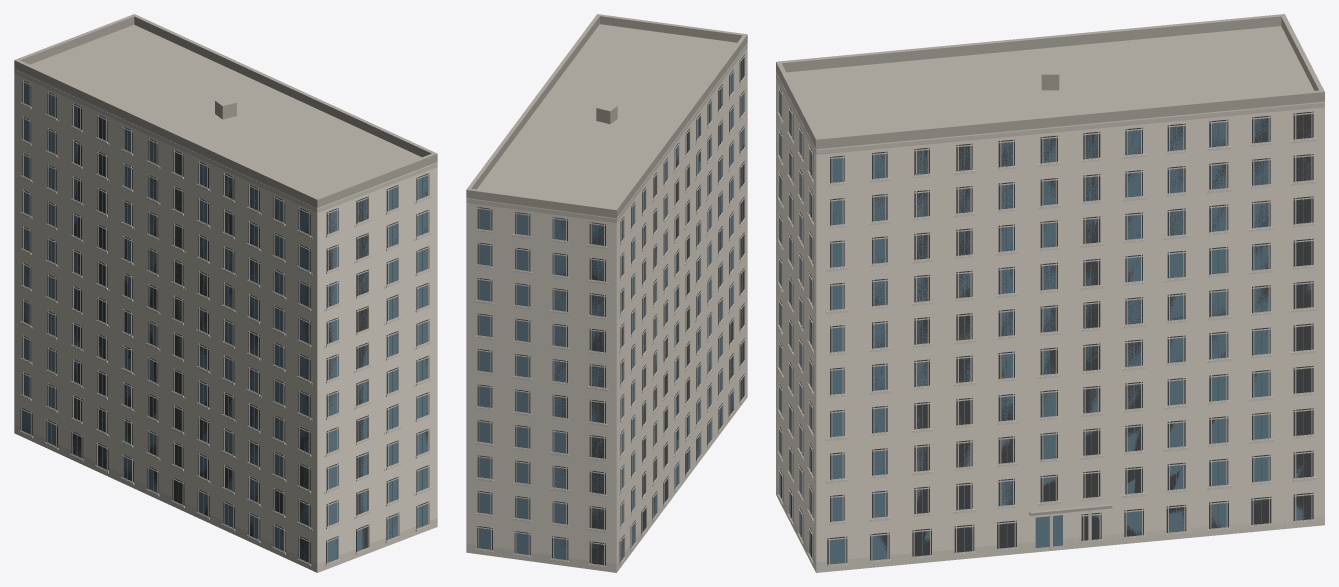
The model's file is cop_residencial_orla_04__way_586975773.fbx.
3 renders of one model, left to right at view 1: azimuth 30°, elevation 25°; view 2: azimuth 150°, elevation 25°; view 3: azimuth 270°, elevation 25°, orthographic. The views are drawn at different scales.
Visible parts, largest first — view 1: cop_residencial_orla_04__way_586975773_wall, cop_residencial_orla_04__way_586975773_roof, cop_residencial_orla_04__way_586975773_shadow, cop_residencial_orla_04__way_586975773_glass, cop_residencial_orla_04__way_586975773_trim, cop_residencial_orla_04__way_586975773_stone, cop_residencial_orla_04__way_586975773_metal; view 2: cop_residencial_orla_04__way_586975773_wall, cop_residencial_orla_04__way_586975773_roof, cop_residencial_orla_04__way_586975773_trim, cop_residencial_orla_04__way_586975773_glass, cop_residencial_orla_04__way_586975773_shadow, cop_residencial_orla_04__way_586975773_stone, cop_residencial_orla_04__way_586975773_metal; view 3: cop_residencial_orla_04__way_586975773_wall, cop_residencial_orla_04__way_586975773_roof, cop_residencial_orla_04__way_586975773_shadow, cop_residencial_orla_04__way_586975773_glass, cop_residencial_orla_04__way_586975773_trim, cop_residencial_orla_04__way_586975773_stone, cop_residencial_orla_04__way_586975773_metal.
Boxes of the visible parts, x1=… form: cop_residencial_orla_04__way_586975773_wall: x1=14, y1=68, x2=437, y2=572; cop_residencial_orla_04__way_586975773_roof: x1=14, y1=14, x2=437, y2=207; cop_residencial_orla_04__way_586975773_shadow: x1=20, y1=80, x2=429, y2=563; cop_residencial_orla_04__way_586975773_glass: x1=22, y1=83, x2=427, y2=562; cop_residencial_orla_04__way_586975773_trim: x1=14, y1=69, x2=437, y2=564; cop_residencial_orla_04__way_586975773_stone: x1=14, y1=103, x2=437, y2=572; cop_residencial_orla_04__way_586975773_metal: x1=26, y1=84, x2=423, y2=560; cop_residencial_orla_04__way_586975773_wall: x1=466, y1=43, x2=747, y2=572; cop_residencial_orla_04__way_586975773_roof: x1=466, y1=14, x2=747, y2=218; cop_residencial_orla_04__way_586975773_trim: x1=466, y1=44, x2=747, y2=566; cop_residencial_orla_04__way_586975773_glass: x1=478, y1=63, x2=744, y2=565; cop_residencial_orla_04__way_586975773_shadow: x1=477, y1=54, x2=744, y2=565; cop_residencial_orla_04__way_586975773_stone: x1=466, y1=76, x2=746, y2=572; cop_residencial_orla_04__way_586975773_metal: x1=484, y1=59, x2=742, y2=564; cop_residencial_orla_04__way_586975773_wall: x1=776, y1=72, x2=1324, y2=572; cop_residencial_orla_04__way_586975773_roof: x1=776, y1=14, x2=1324, y2=515; cop_residencial_orla_04__way_586975773_shadow: x1=779, y1=87, x2=1313, y2=565; cop_residencial_orla_04__way_586975773_glass: x1=779, y1=94, x2=1311, y2=564; cop_residencial_orla_04__way_586975773_trim: x1=776, y1=73, x2=1324, y2=565; cop_residencial_orla_04__way_586975773_stone: x1=776, y1=113, x2=1324, y2=572; cop_residencial_orla_04__way_586975773_metal: x1=780, y1=93, x2=1303, y2=563.
Bounding box in the file's own units: 1909 × 3112 × 3522.
